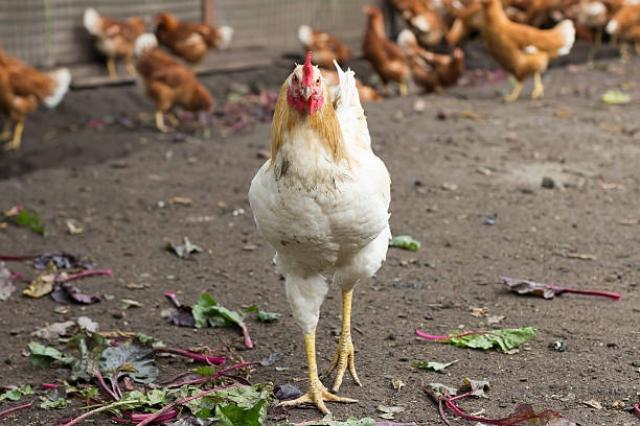Chicken: (247, 51, 394, 419), (478, 2, 577, 103), (132, 31, 219, 134), (0, 43, 72, 148)
